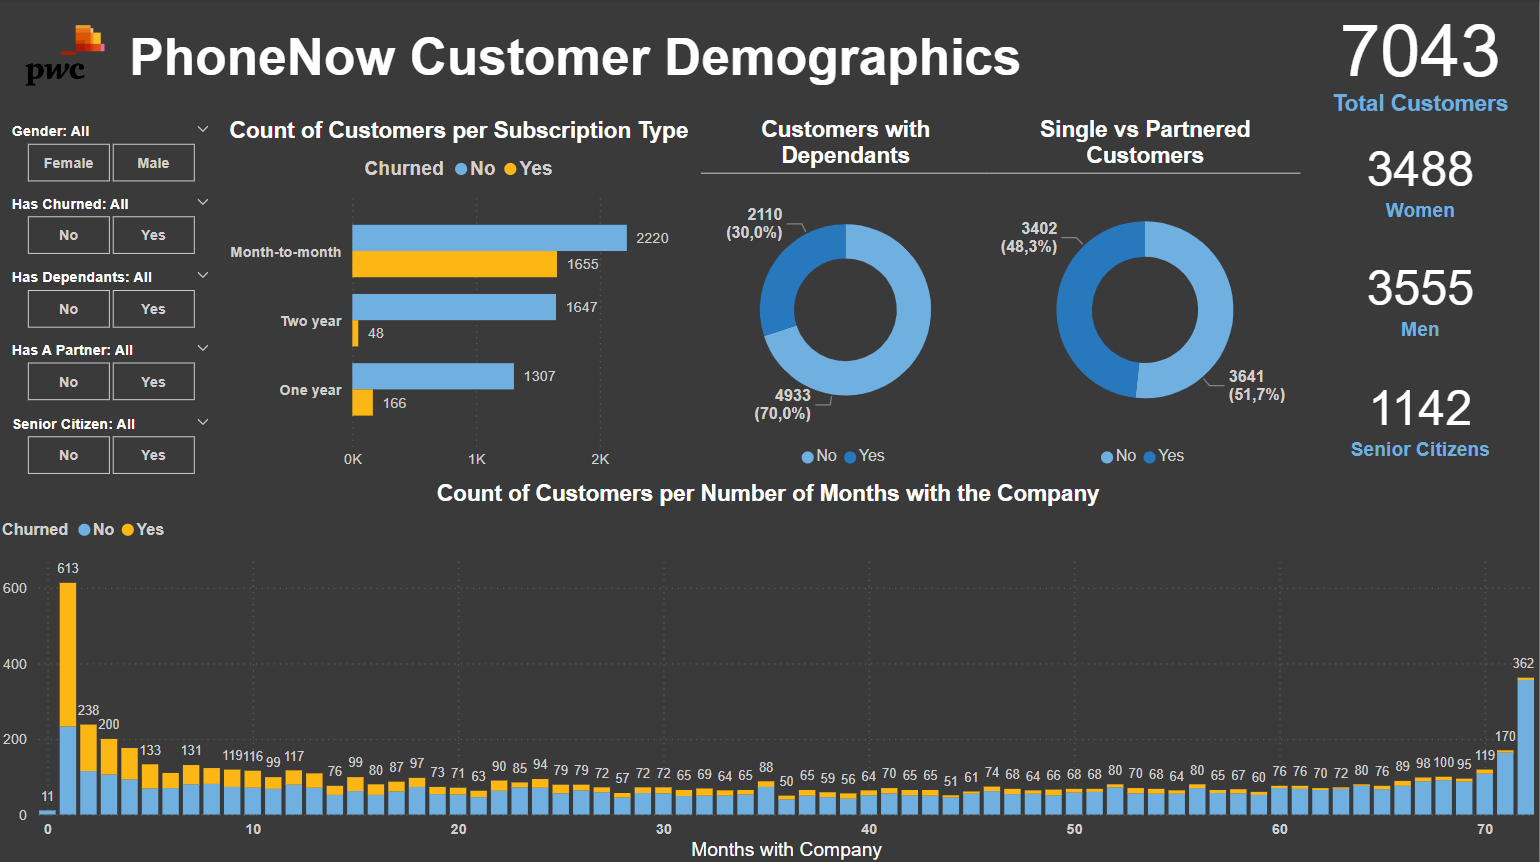

The page's visual inventory and layout, read from the dashboard file:
{"tool":"powerbi","page":{"name":"Client Demographics","canvas":[1280,720],"ordinal":2},"visuals":[{"type":"card","fields":{"Values":["CountNonNull(01 Churn-Dataset.customerID)"]},"box":[1081.9,99.9,198.4,98.5],"z":0},{"type":"slicer","fields":{"Values":["01 Churn-Dataset.SeniorCitizen"]},"box":[0,340.9,188.8,60.6],"z":0,"group":"g1"},{"type":"slicer","fields":{"Values":["01 Churn-Dataset.Dependents"]},"box":[0,219.8,188.8,60.6],"z":1000,"group":"g1"},{"type":"columnChart","title":"Count of Customers per Number of Months with the Company ","fields":{"Category":["01 Churn-Dataset.tenure"],"Series":["01 Churn-Dataset.Churn"],"Y":["CountNonNull(01 Churn-Dataset.customerID)"]},"box":[0,400.2,1280.2,319.5],"z":1000},{"type":"card","fields":{"Values":["CountNonNull(01 Churn-Dataset.customerID)"]},"box":[1081.9,0,198.3,98.6],"z":2000},{"type":"slicer","fields":{"Values":["01 Churn-Dataset.Partner"]},"box":[0,280.4,188.8,60.6],"z":2000,"group":"g1"},{"type":"slicer","fields":{"Values":["01 Churn-Dataset.gender"]},"box":[0,98.6,188.8,60.6],"z":3000,"group":"g1"},{"type":"donutChart","title":"Customers with Dependants","fields":{"Y":["CountNonNull(01 Churn-Dataset.customerID)"],"Category":["01 Churn-Dataset.Dependents"]},"box":[584.3,98.6,239.9,300.5],"z":3000},{"type":"slicer","fields":{"Values":["01 Churn-Dataset.Churn"]},"box":[0,159.2,188.8,60.6],"z":4000,"group":"g1"},{"type":"group","id":"g1","title":"Group 1","box":[0,98.6,188.8,300.5],"z":4000},{"type":"clusteredBarChart","title":"Count of Customers per Subscription Type","fields":{"Category":["01 Churn-Dataset.Contract"],"Y":["CountNonNull(01 Churn-Dataset.customerID)"],"Series":["01 Churn-Dataset.Churned"]},"box":[188.8,99.8,395.5,299.3],"z":5000},{"type":"donutChart","title":"Single vs Partnered Customers","fields":{"Y":["CountNonNull(01 Churn-Dataset.customerID)"],"Category":["01 Churn-Dataset.Partner"]},"box":[824.2,98.6,257.7,300.5],"z":6000},{"type":"card","fields":{"Values":["CountNonNull(01 Churn-Dataset.customerID)"]},"box":[1081.9,198.3,198.3,98.6],"z":7000},{"type":"card","fields":{"Values":["CountNonNull(01 Churn-Dataset.customerID)"]},"box":[1081.9,296.9,198.3,98.6],"z":8000},{"type":"image","box":[0,0,114,95],"z":9000},{"type":"textbox","box":[105.7,20.2,812.3,59.4],"z":10000}]}

Visuals, with their boxes in screenshot pixels (x1, y1, x2, y2), scaled from the page's 1280x720 canvas onto the 1540x862 screenshot:
card - CountNonNull(01 Churn-Dataset.customerID): [1302, 120, 1539, 238]
slicer - 01 Churn-Dataset.SeniorCitizen: [0, 408, 227, 481]
slicer - 01 Churn-Dataset.Dependents: [0, 263, 227, 336]
"Count of Customers per Number of Months with the Company " columnChart: [0, 479, 1539, 861]
card - CountNonNull(01 Churn-Dataset.customerID): [1302, 0, 1539, 118]
slicer - 01 Churn-Dataset.Partner: [0, 336, 227, 408]
slicer - 01 Churn-Dataset.gender: [0, 118, 227, 191]
"Customers with Dependants" donutChart: [703, 118, 992, 478]
slicer - 01 Churn-Dataset.Churn: [0, 191, 227, 263]
"Group 1" group: [0, 118, 227, 478]
"Count of Customers per Subscription Type" clusteredBarChart: [227, 119, 703, 478]
"Single vs Partnered Customers" donutChart: [992, 118, 1302, 478]
card - CountNonNull(01 Churn-Dataset.customerID): [1302, 237, 1539, 355]
card - CountNonNull(01 Churn-Dataset.customerID): [1302, 355, 1539, 474]
image: [0, 0, 137, 114]
textbox: [127, 24, 1104, 95]
